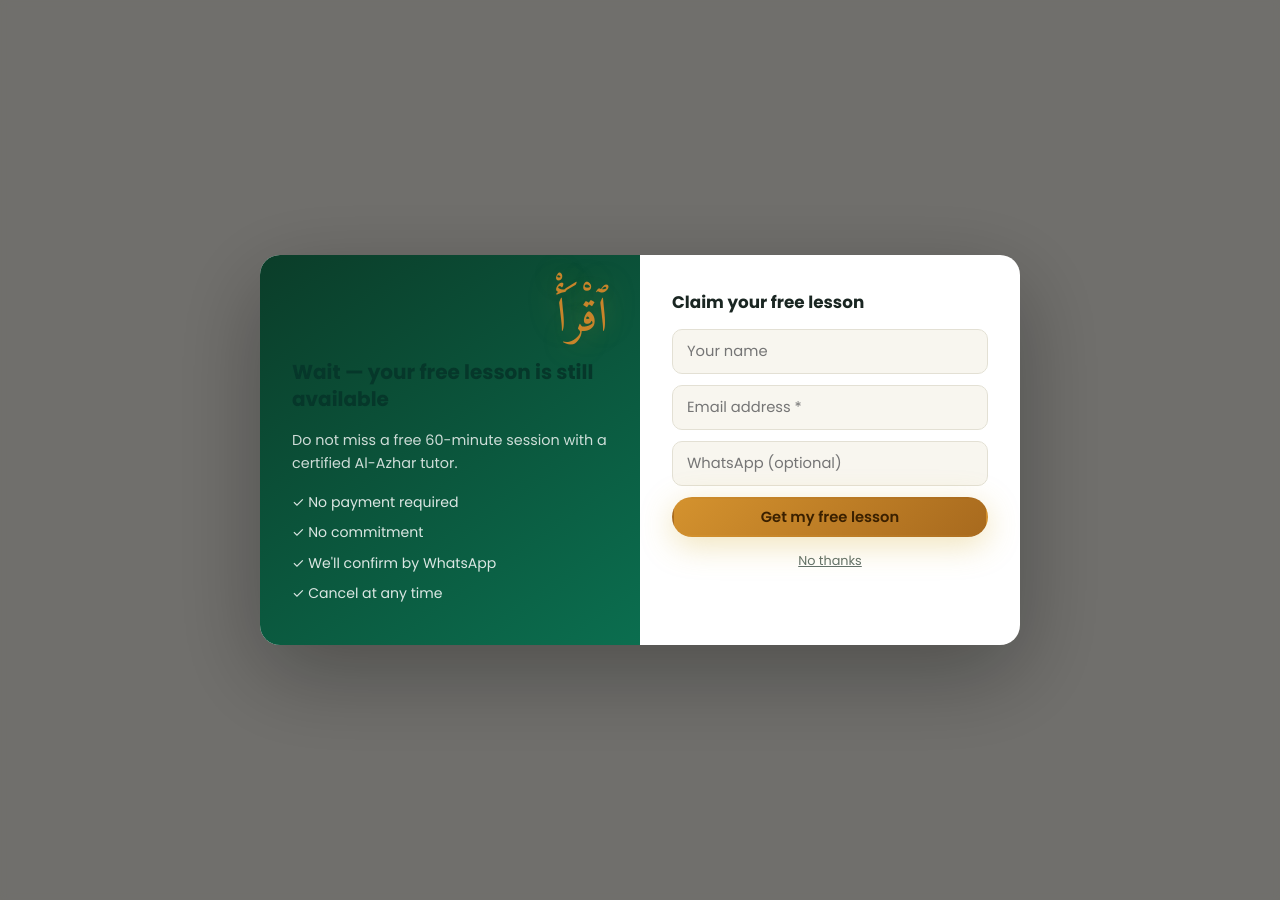
Test: ExitIntentPopup › shows no follow-up on a client-side validation error (nothing is sent)
Type "عائشة O'Brien & Co" into the field with placeholder "Your name" at {"x": 830, "y": 351}, box [672,329,988,374]
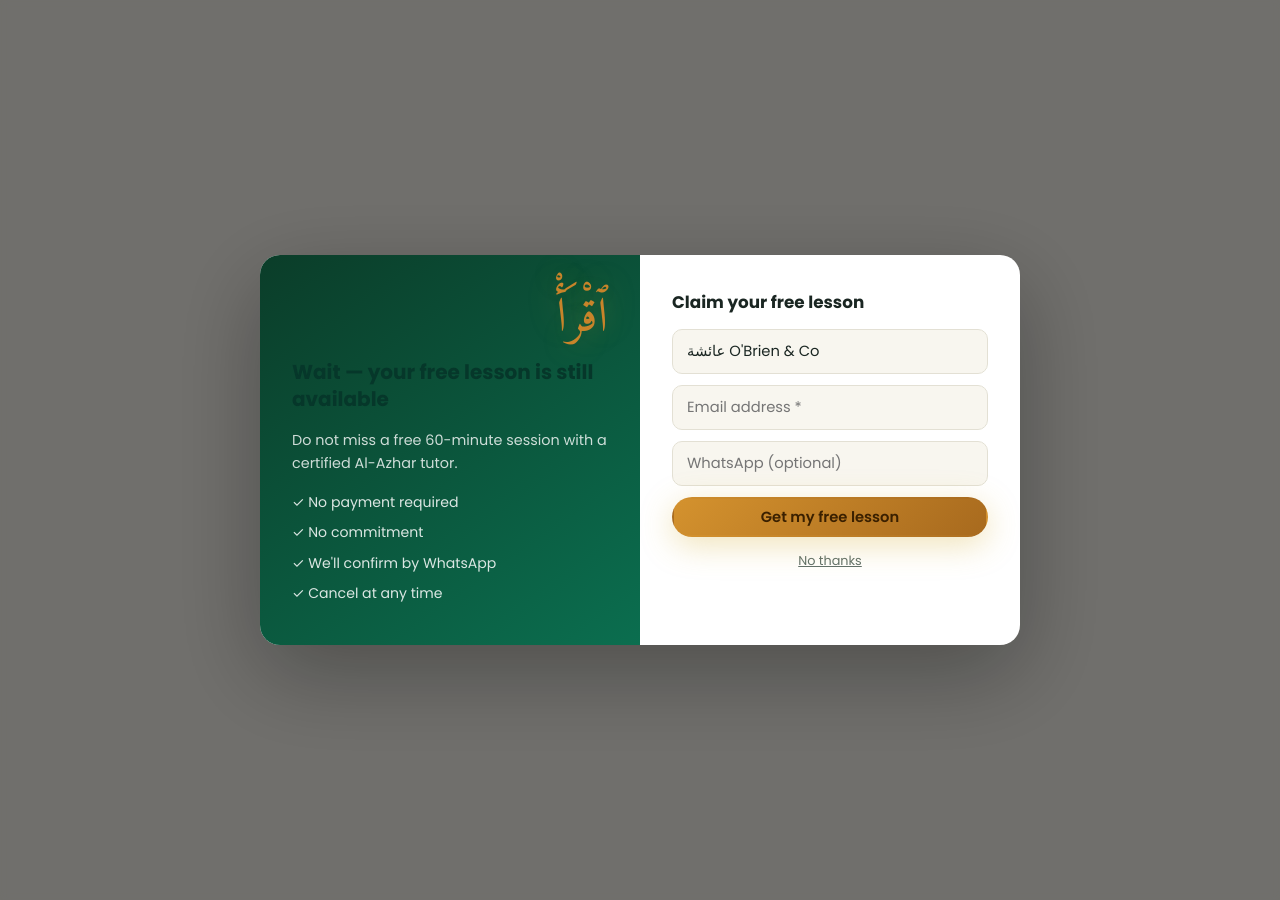
Type "nope" into the field with placeholder "Email address *" at {"x": 830, "y": 407}, box [672,385,988,430]
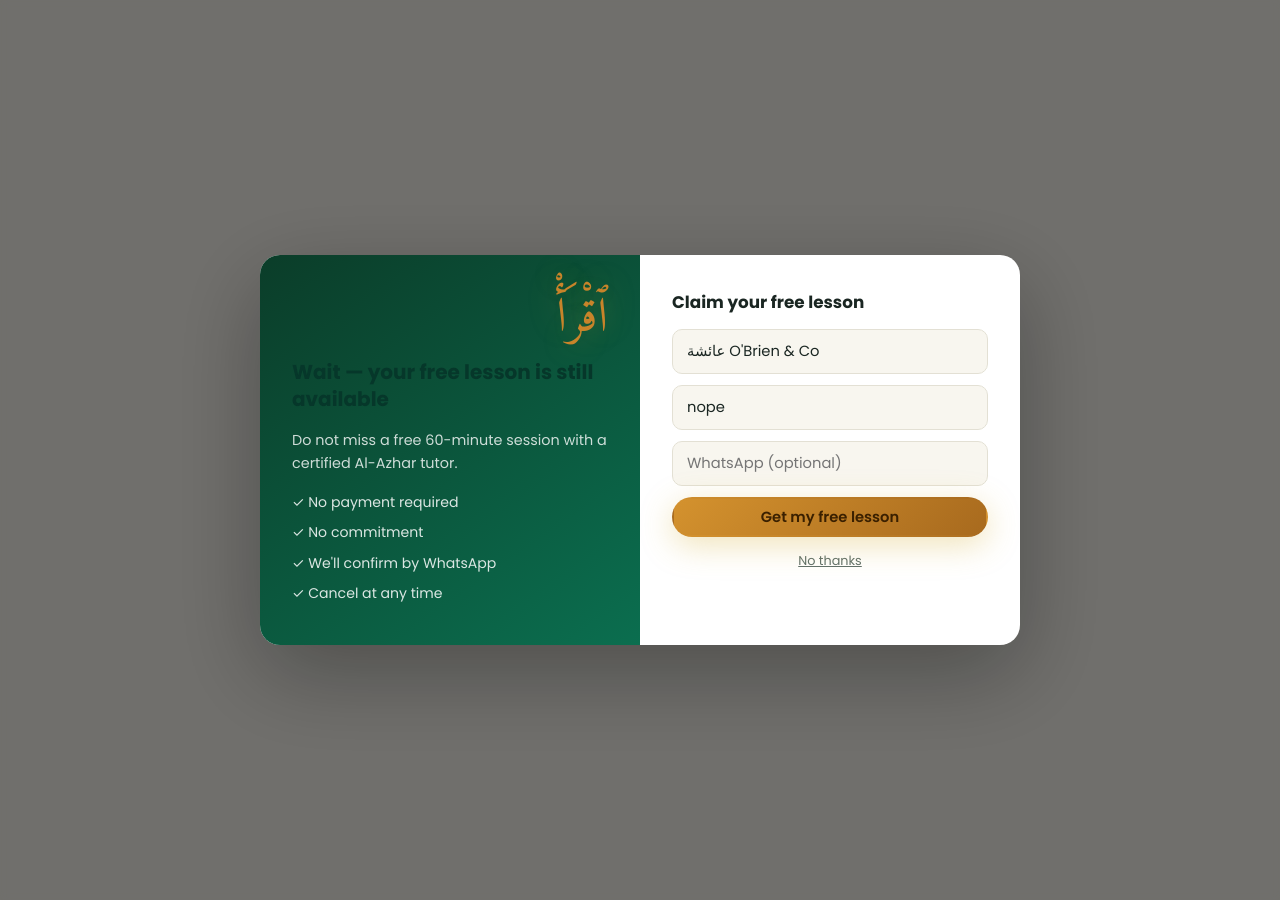
Type "+39 333 123 4567" into the field with placeholder "WhatsApp (optional)" at {"x": 830, "y": 463}, box [672,441,988,486]
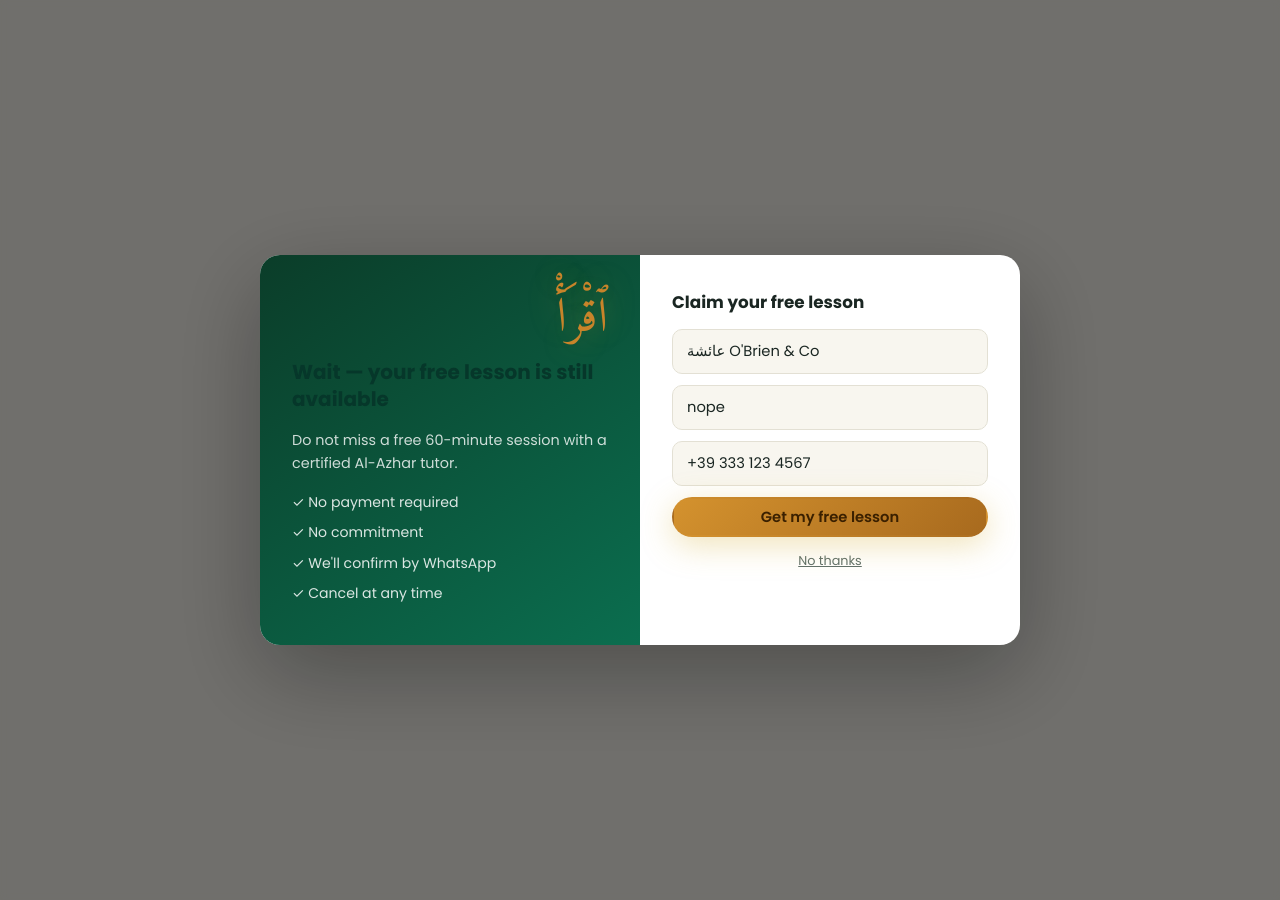
Click the button "Get my free lesson" at {"x": 830, "y": 517}, box [672,497,988,537]
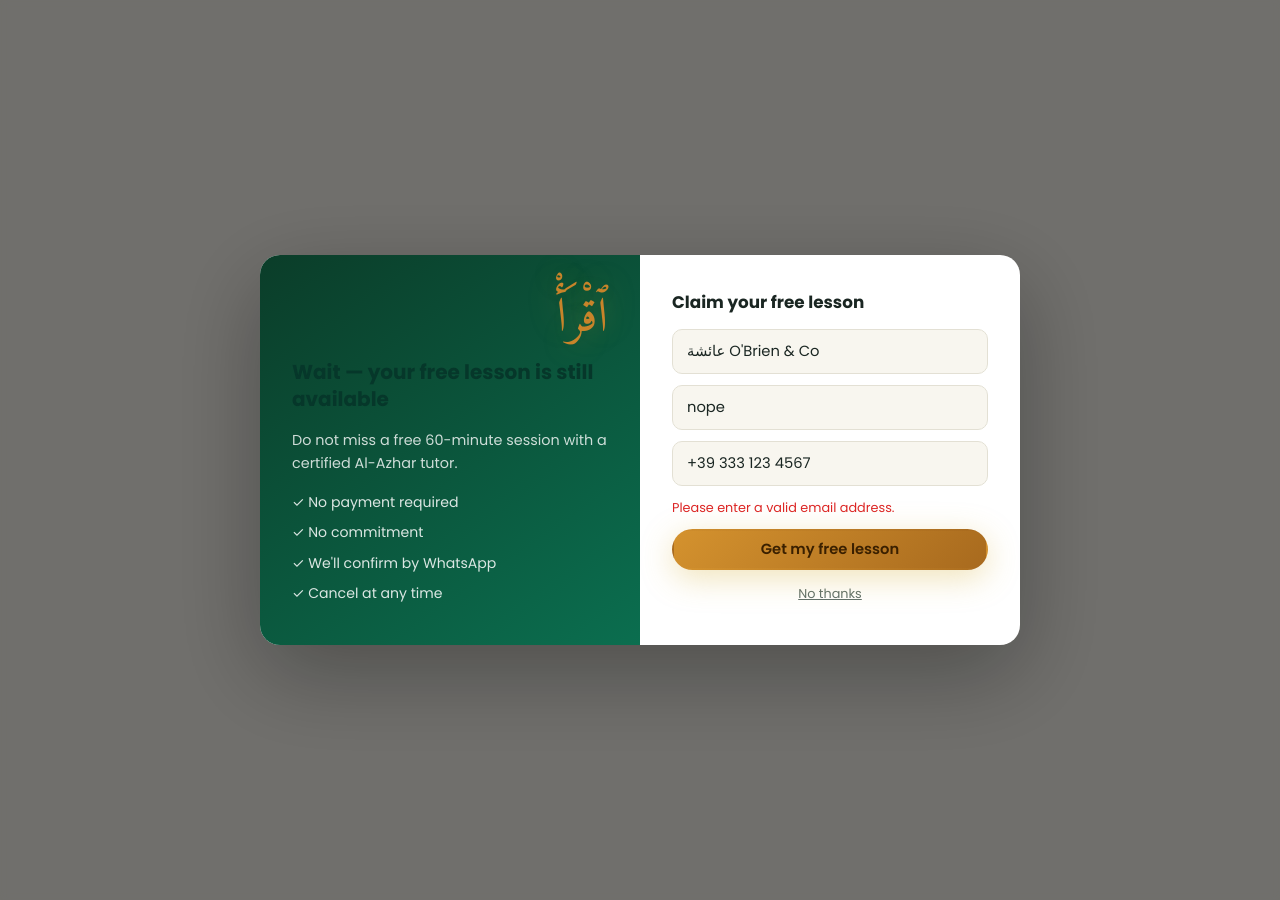
Check: the message reads "Please enter a valid email address.", box [672,499,894,516]
